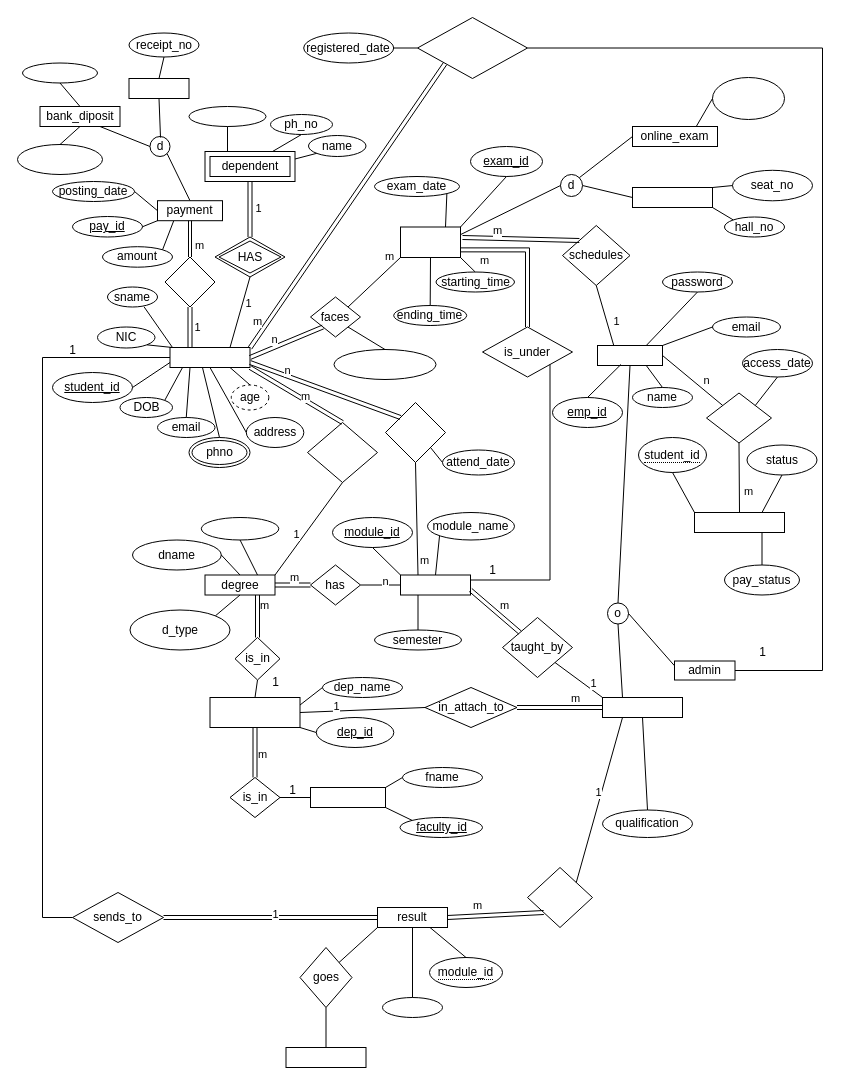
This 841x1085 diagram has some shape labels left out. Here are the shapes that lost their labels. From the top down, the box of each, then its label:
(416, 16, 528, 78): registered_by
(22, 62, 98, 83): account_no
(128, 78, 189, 98): cash
(188, 106, 266, 126): relationship
(712, 76, 784, 120): num_times_ attend
(16, 144, 102, 174): transaction_id
(632, 186, 712, 208): phy_exam
(400, 226, 460, 258): exam
(164, 256, 215, 307): paid_by
(169, 346, 250, 368): student
(333, 348, 436, 380): exam_participation
(596, 344, 662, 366): person
(384, 402, 446, 462): attends
(706, 392, 772, 443): access
(306, 422, 378, 482): enrolls_for
(200, 516, 279, 540): degree_-id
(694, 512, 784, 532): access_validity
(400, 574, 470, 595): module
(209, 696, 300, 728): department
(602, 696, 682, 718): lecturer
(310, 786, 386, 808): faculty
(526, 866, 592, 928): enter
(382, 996, 442, 1018): mark
(285, 1046, 366, 1068): exam_division
